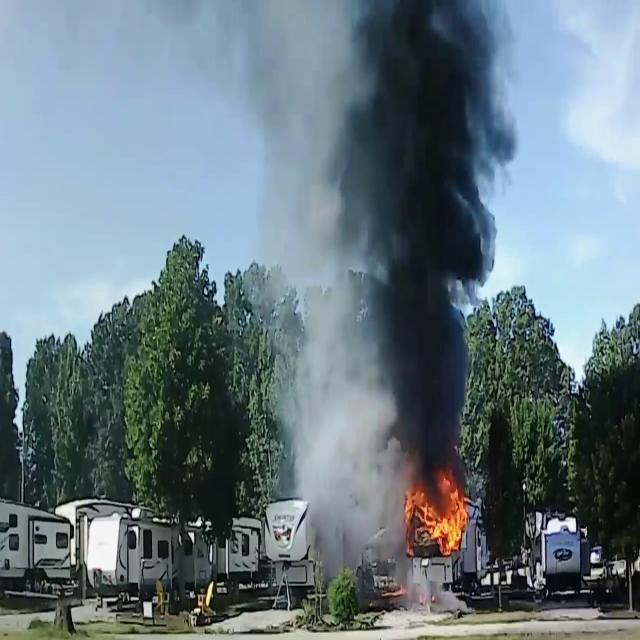Fire: (402, 468, 472, 556)
Smoke: (325, 1, 513, 476)
